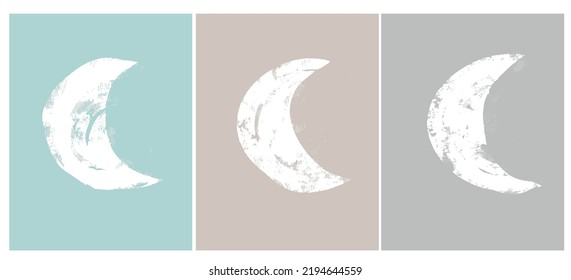moon: (40, 53, 166, 192), (425, 51, 544, 195), (234, 54, 351, 194)
